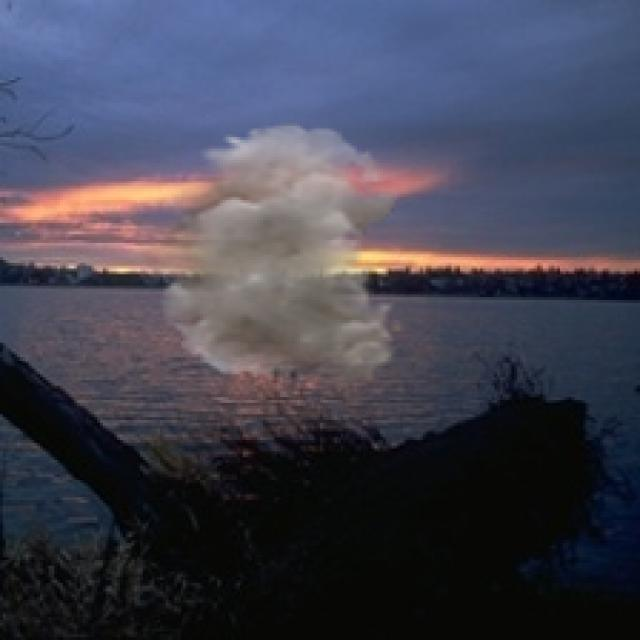Smoke: (128, 122, 406, 388)
